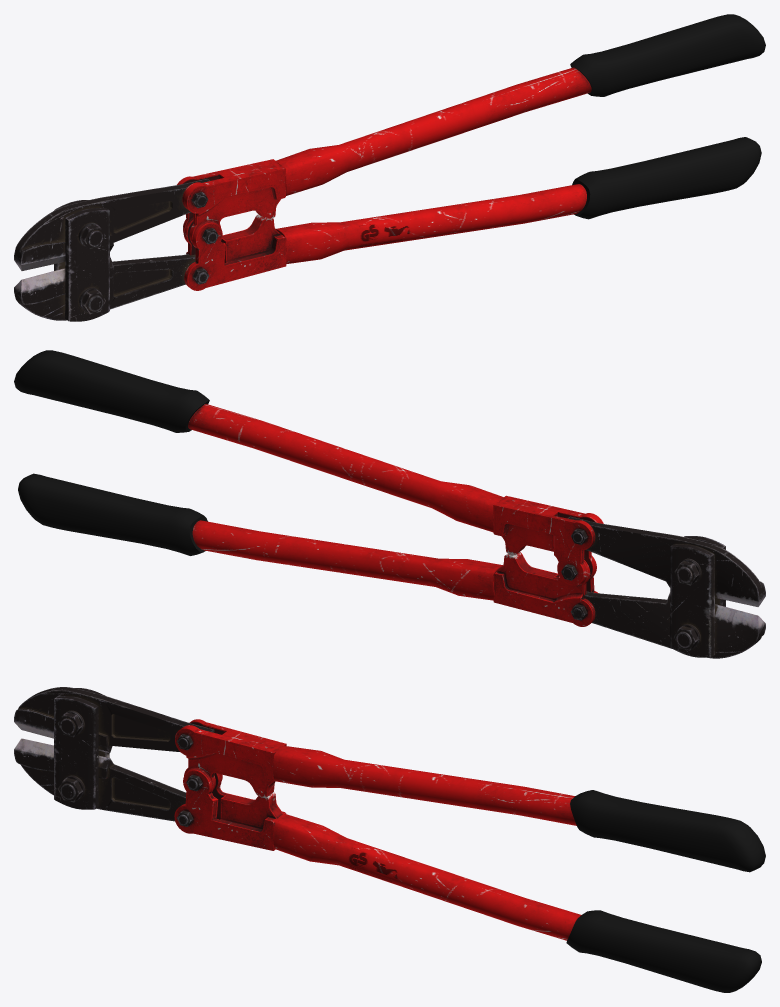
File: boltcutter.fbx
The picture shows the model from 3 angles, top to bottom: view 1: azimuth 30°, elevation 25°; view 2: azimuth 150°, elevation 25°; view 3: azimuth 330°, elevation 25°; orthographic projection.
Visible parts, largest first — view 1: Bolt2_Lowpoly; view 2: Bolt2_Lowpoly; view 3: Bolt2_Lowpoly.
Boxes of the visible parts, left/top/right/bottom form: Bolt2_Lowpoly: left=14, top=14, right=765, bottom=321; Bolt2_Lowpoly: left=14, top=350, right=765, bottom=658; Bolt2_Lowpoly: left=14, top=687, right=765, bottom=992.
Bounding box in the file's own units: 799 × 173 × 53.5.
